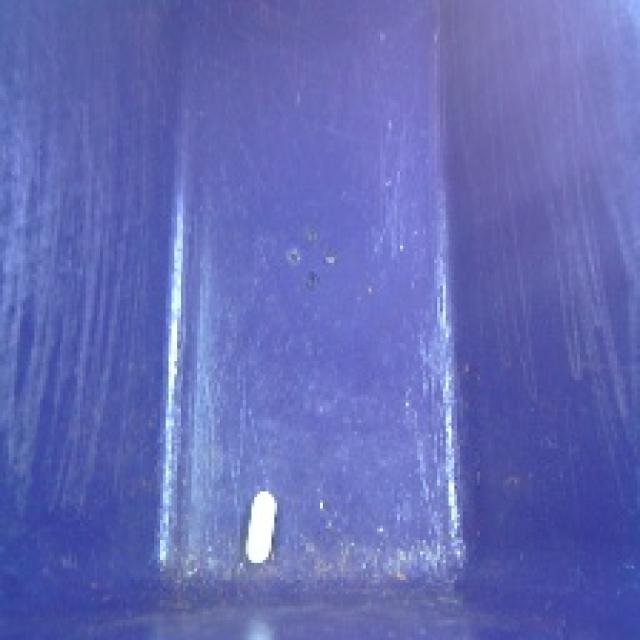small: (240, 484, 285, 568)
